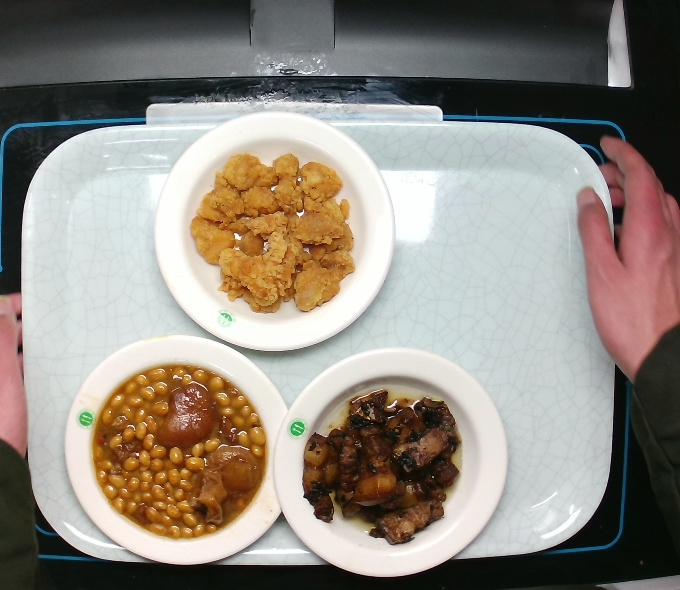wcq-GanCaiRou: (295, 382, 476, 552)
wcq-HuangDouZhuJiao: (86, 352, 279, 549)
wcq-JiMiHua: (182, 144, 366, 321)
